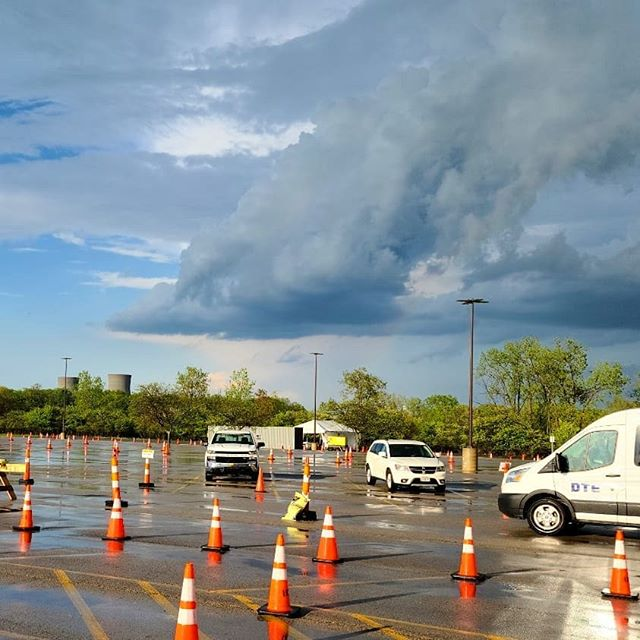car: (359, 437, 446, 495), (206, 422, 259, 484)
sky: (1, 1, 618, 369)
traffic cone: (253, 531, 303, 619), (161, 552, 210, 640), (448, 517, 491, 585), (597, 528, 640, 596), (307, 507, 350, 575), (197, 492, 234, 557), (102, 485, 139, 550), (1, 474, 37, 539)
tree: (479, 335, 606, 434), (137, 370, 210, 443)
